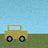vehicle: (4, 25, 27, 42)
